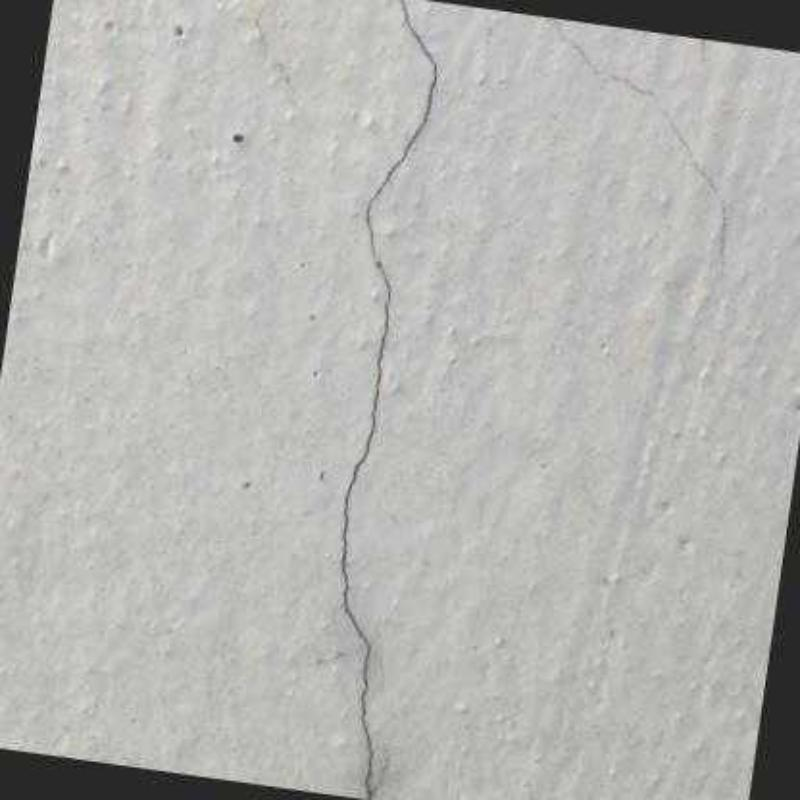pothole: (340, 0, 439, 798), (552, 19, 727, 277)
